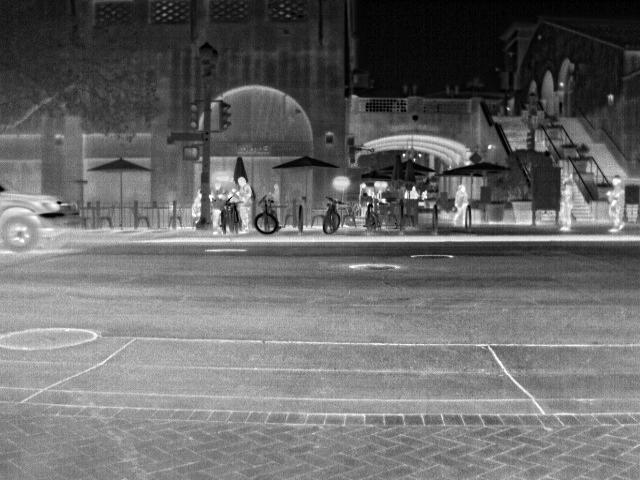car: (1, 184, 69, 251)
person: (607, 174, 627, 234), (559, 177, 578, 234), (236, 176, 254, 236), (451, 184, 470, 226), (191, 188, 204, 218), (409, 184, 421, 198)
